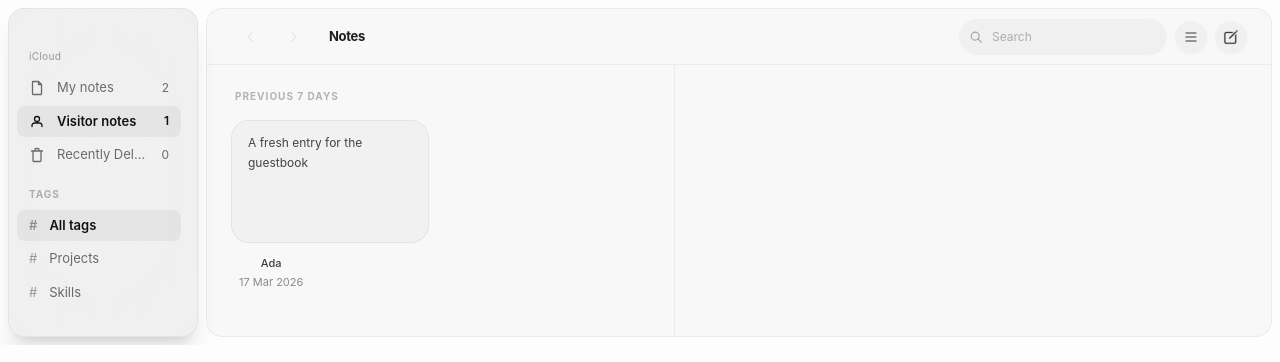
NotesApp › filters notes by clicking sidebar tags
The image size is (1280, 362).
Click the button "My notes 2".
click(99, 88)  # box [17,72,181,104]
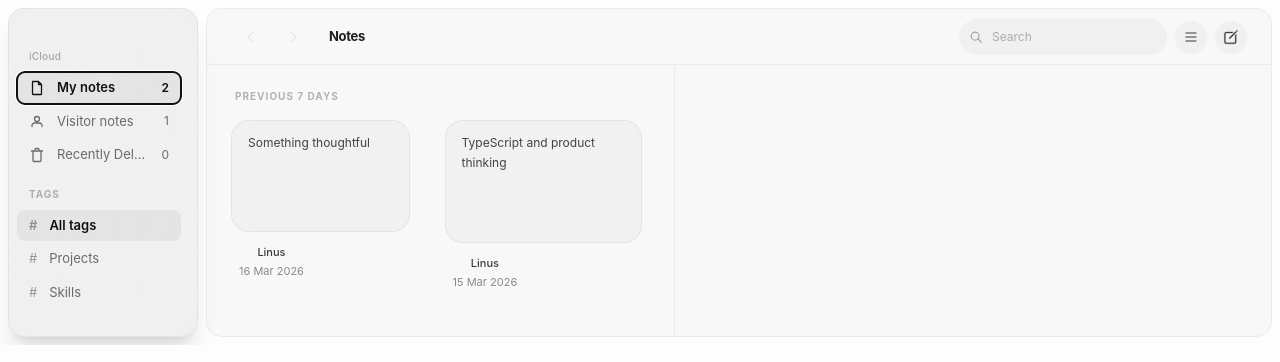
expect the text "Something thoughtful" is shown: met, box [248,135,370,150]
expect the text "TypeScript and product thinking" is shown: met, box [462,135,595,170]
Click the button with aria-label "Filter by tag Projects".
click(99, 259)  # box [17,243,181,274]
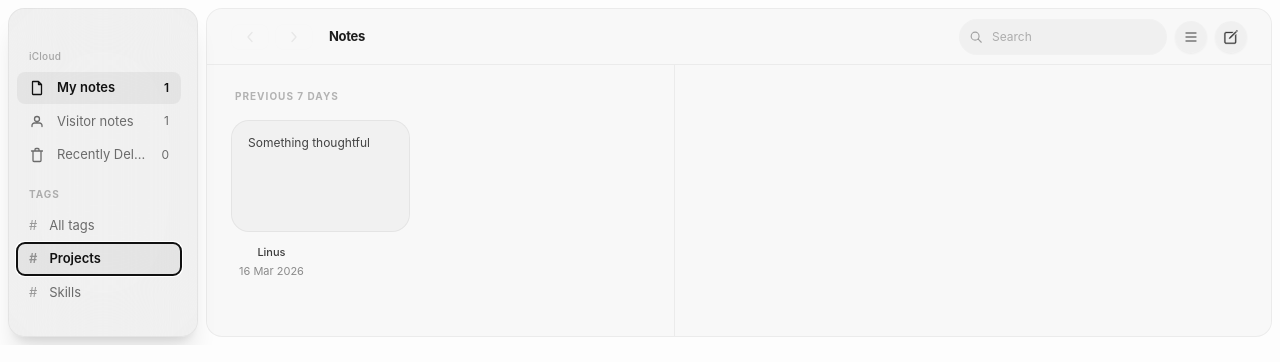
expect the text "Something thoughtful" is shown: met, box [248,135,370,150]
expect the button "TypeScript and product thinking" is gone: met
Click the button "# All tags".
click(99, 225)  # box [17,210,181,241]
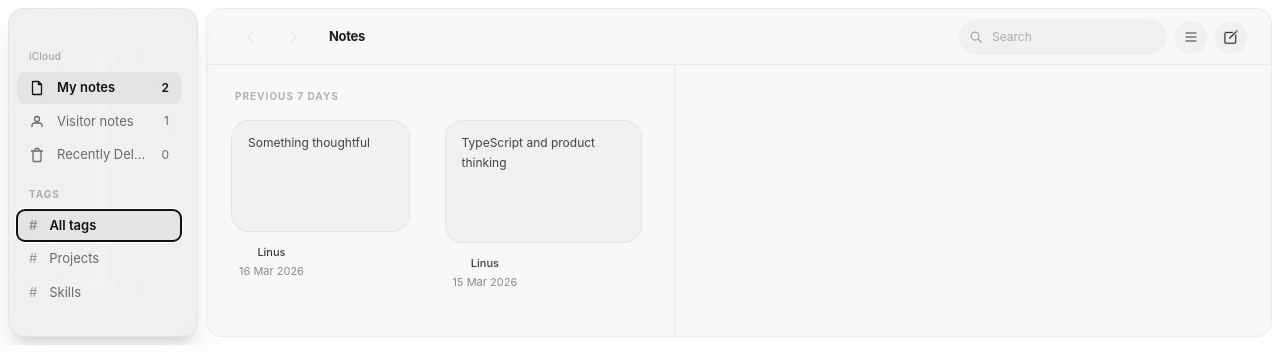
expect the text "Something thoughtful" is shown: met, box [248,135,370,150]
expect the text "TypeScript and product thinking" is shown: met, box [462,135,595,170]
